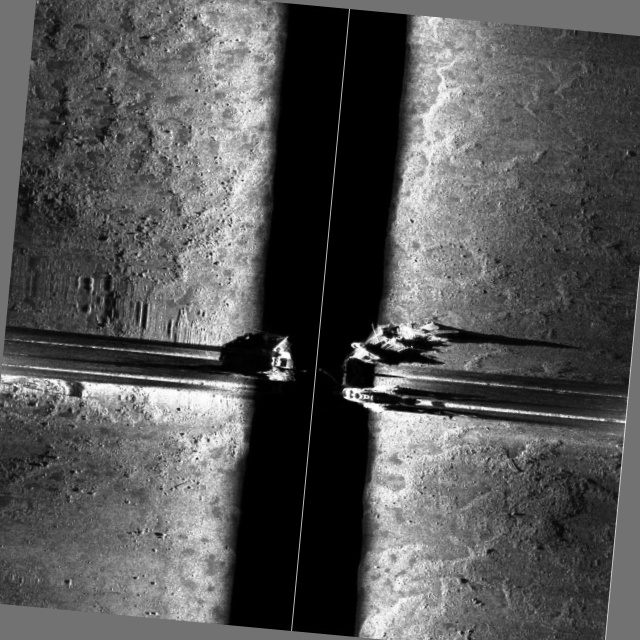Shipwreck: (174, 222, 538, 522)
